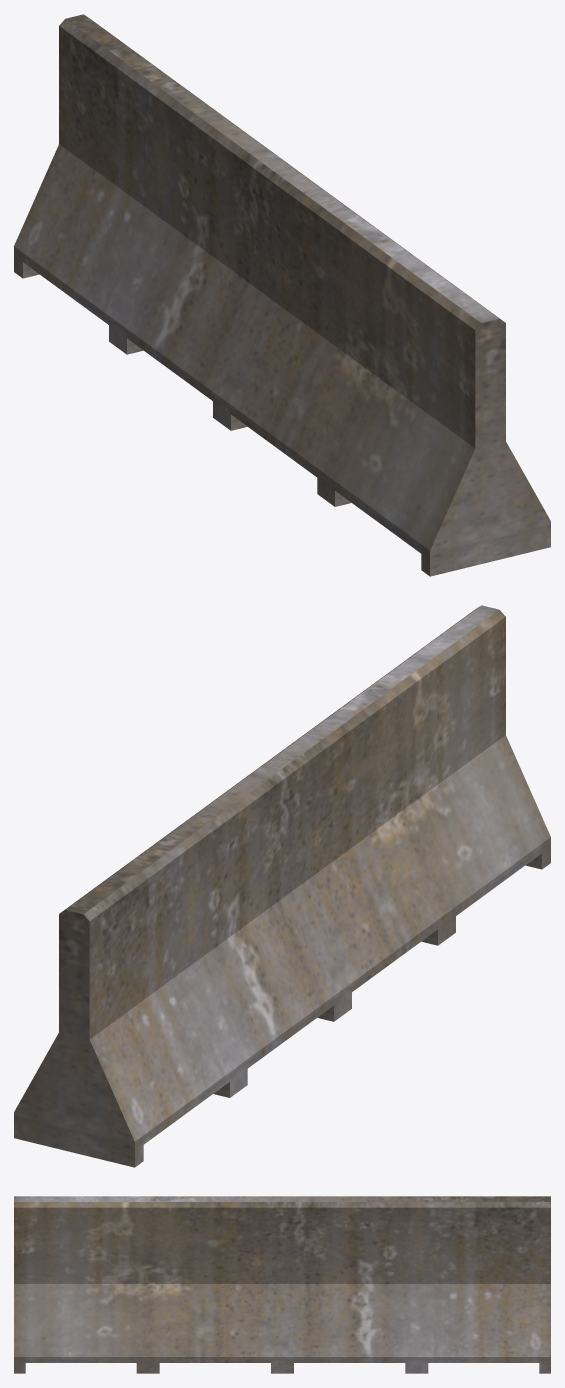
File: Road Block.fbx
The picture shows the model from 3 angles, top to bottom: view 1: azimuth 30°, elevation 25°; view 2: azimuth 150°, elevation 25°; view 3: azimuth 270°, elevation 25°; orthographic projection. The views are drawn at different scales.
Parts seen in each view (by area): view 1: Cube.002; view 2: Cube.002; view 3: Cube.002.
Boxes of the visible parts, x1,y1,x2,y2 form: Cube.002: (14, 14, 550, 576); Cube.002: (14, 605, 550, 1167); Cube.002: (14, 1196, 550, 1373).
Size of the model in its own units: 66.36 by 126 by 396.
